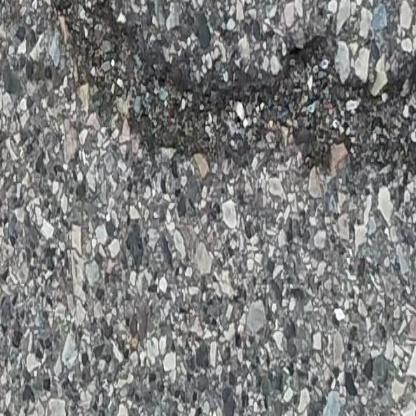Cracks: (34, 0, 416, 181)
